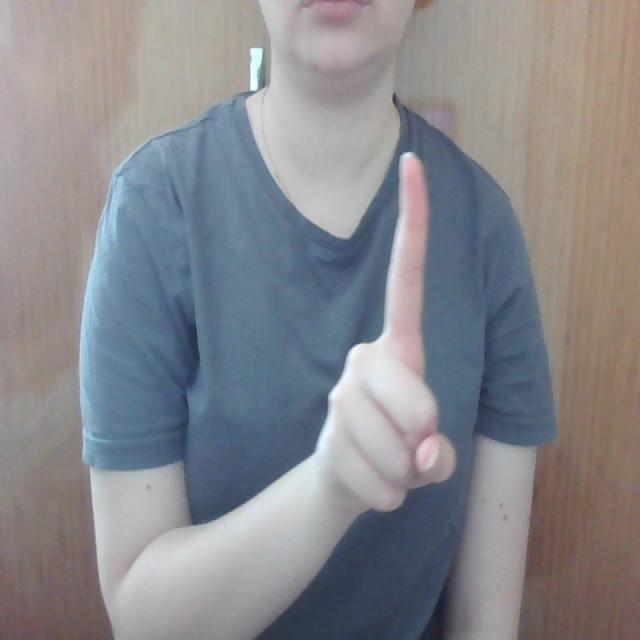Hayir: (313, 142, 469, 544)
